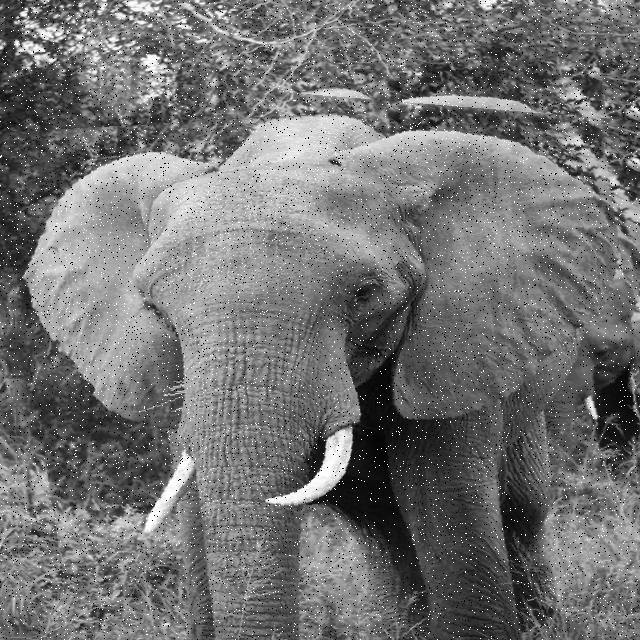elephant: (11, 70, 640, 640)
